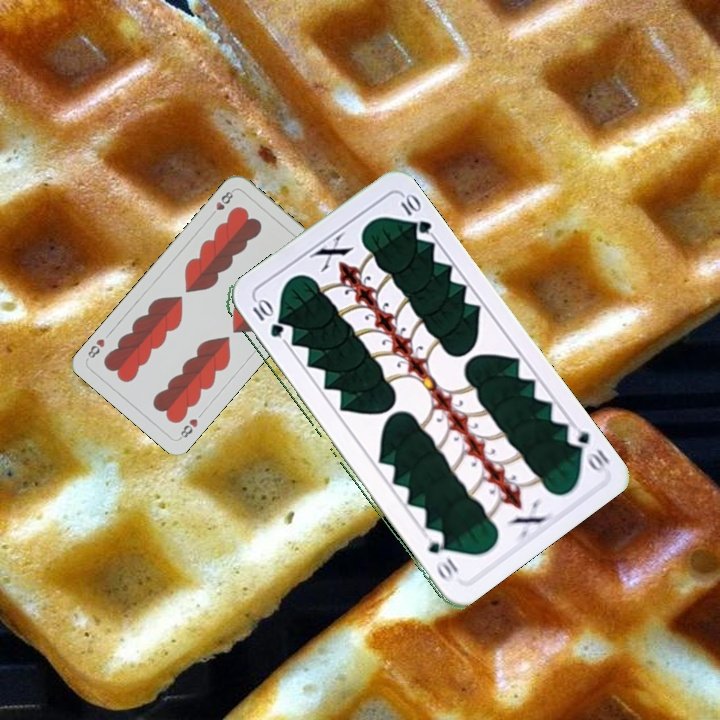G10: (562, 420, 612, 475), (248, 296, 285, 341)
H8: (206, 186, 237, 220), (175, 414, 201, 442)
